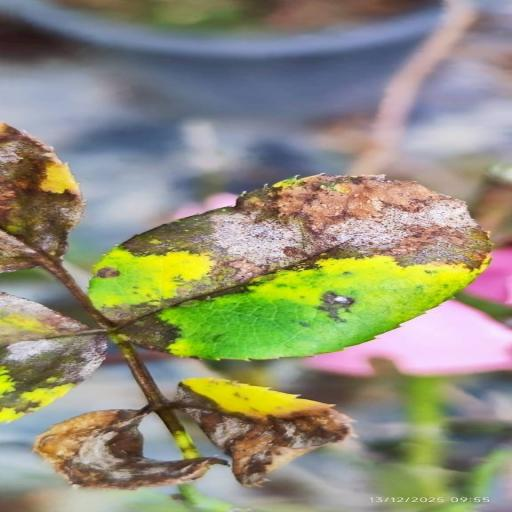thrip: (89, 175, 490, 359), (175, 378, 351, 486), (34, 409, 227, 490), (0, 293, 107, 421), (0, 122, 84, 272)
